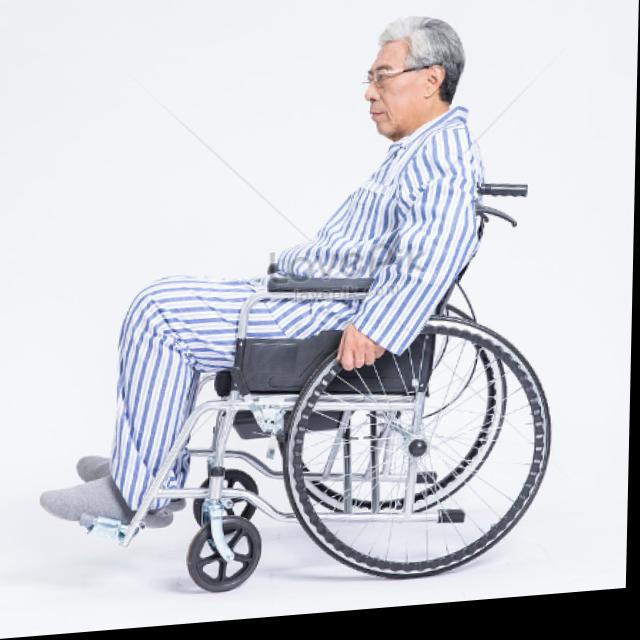wheelchair: (40, 13, 565, 611)
